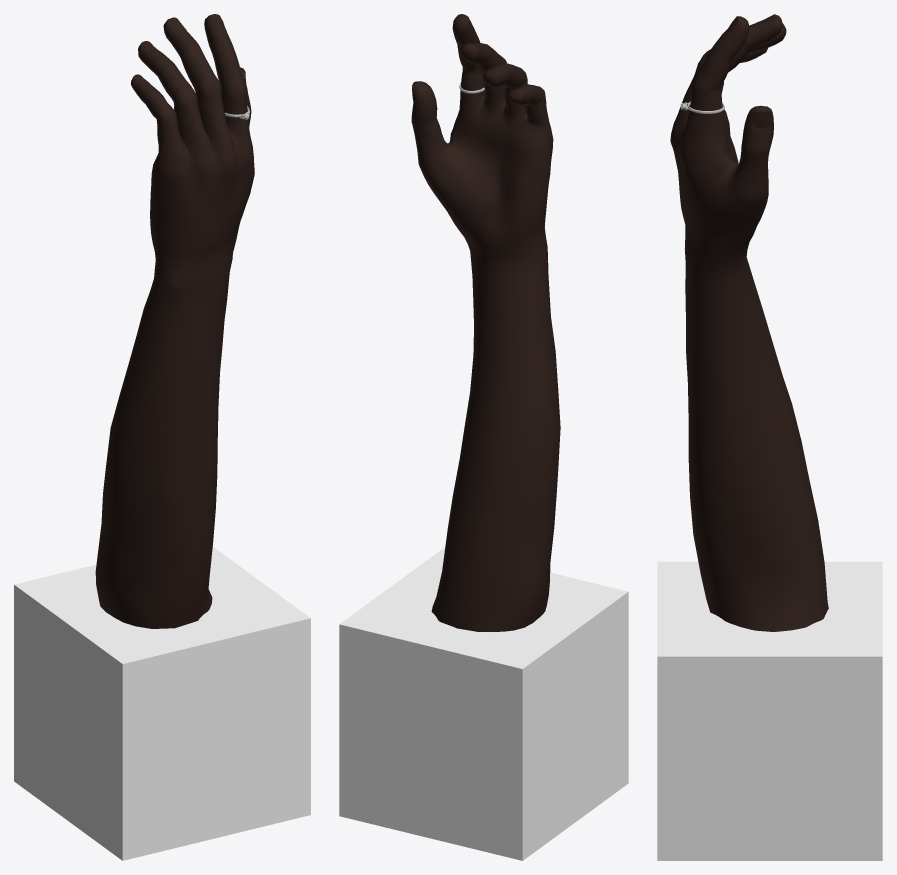
3 views of the same model, side by side, from view 1: azimuth 30°, elevation 25°; view 2: azimuth 150°, elevation 25°; view 3: azimuth 270°, elevation 25° (orthographic). The views are drawn at different scales.
Visible parts, largest first — view 1: Cube, CC_Base_Body; view 2: Cube, CC_Base_Body; view 3: Cube, CC_Base_Body.
Boxes of the visible parts, x1,y1,x2,y2 form: Cube: (14, 547, 310, 860); CC_Base_Body: (95, 14, 254, 628); Cube: (339, 547, 628, 860); CC_Base_Body: (411, 14, 560, 631); Cube: (657, 561, 882, 860); CC_Base_Body: (670, 14, 828, 631).
Size of the model in its own units: 0.9623 by 3.84 by 0.9623.
